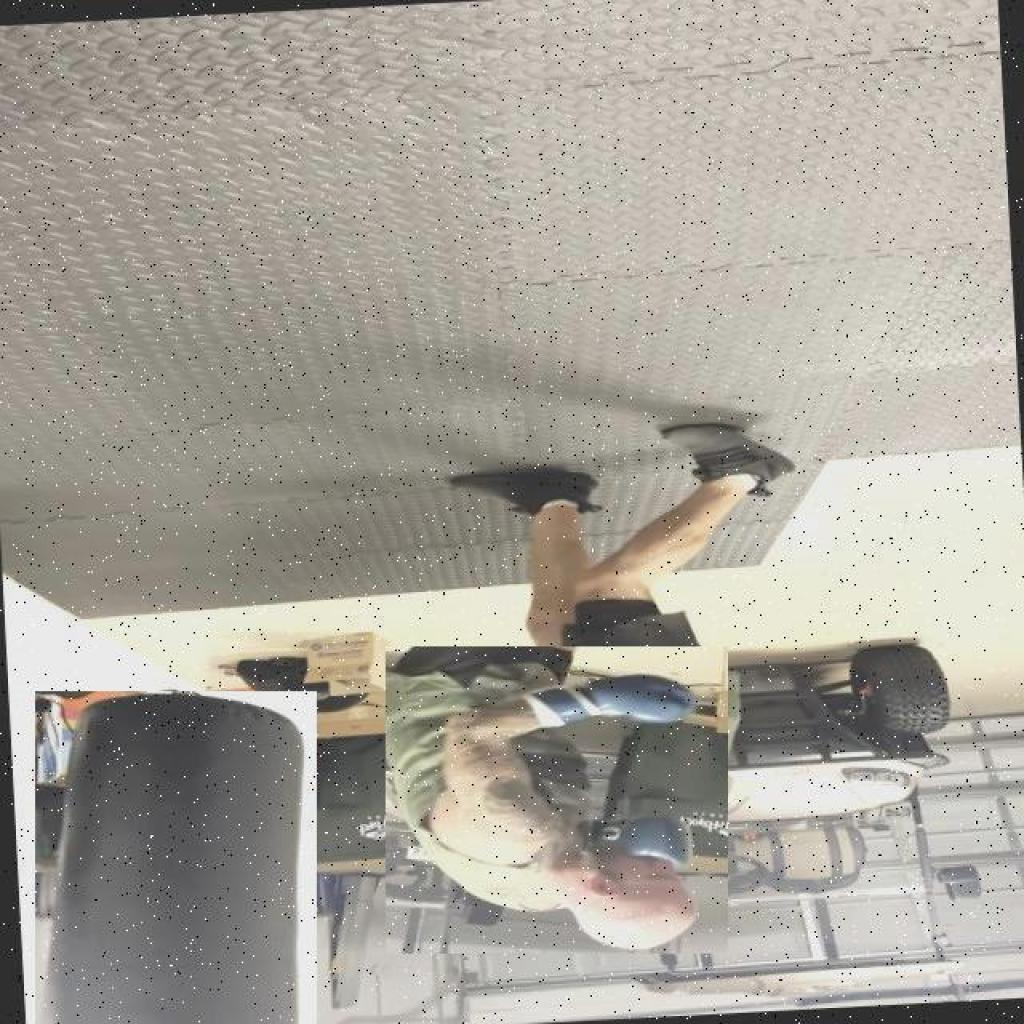bag: (35, 691, 316, 1024)
uppercut: (386, 646, 728, 953)
